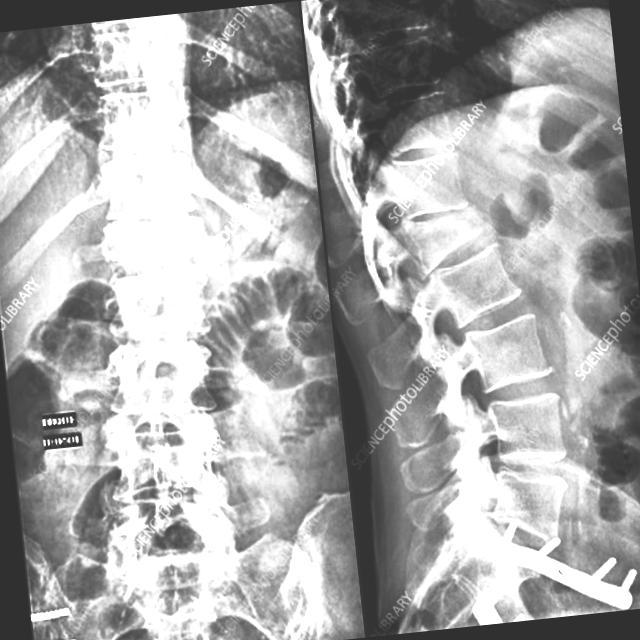Impact Fracture: (402, 204, 490, 264)
